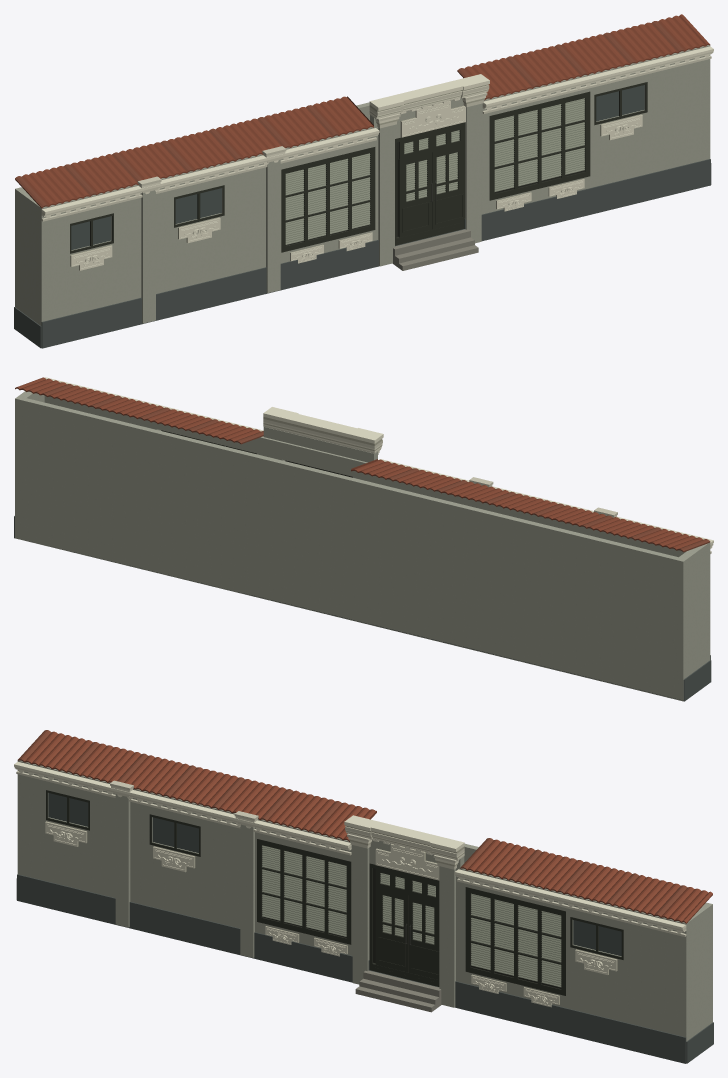
File: lod-source.glb
The picture shows the model from 3 angles, top to bottom: view 1: azimuth 30°, elevation 25°; view 2: azimuth 150°, elevation 25°; view 3: azimuth 330°, elevation 25°; orthographic projection.
Visible parts, largest first — view 1: 康平路196号住宅百叶窗与灰塑; view 2: 康平路196号住宅百叶窗与灰塑; view 3: 康平路196号住宅百叶窗与灰塑.
Part boxes in pixels (x1=…): 康平路196号住宅百叶窗与灰塑: x1=14, y1=14, x2=713, y2=348; 康平路196号住宅百叶窗与灰塑: x1=14, y1=377, x2=713, y2=701; 康平路196号住宅百叶窗与灰塑: x1=14, y1=730, x2=713, y2=1063.
Bounding box in the file's own units: 19.38 × 4.51 × 1.92.
13 materials, 1 textured.
